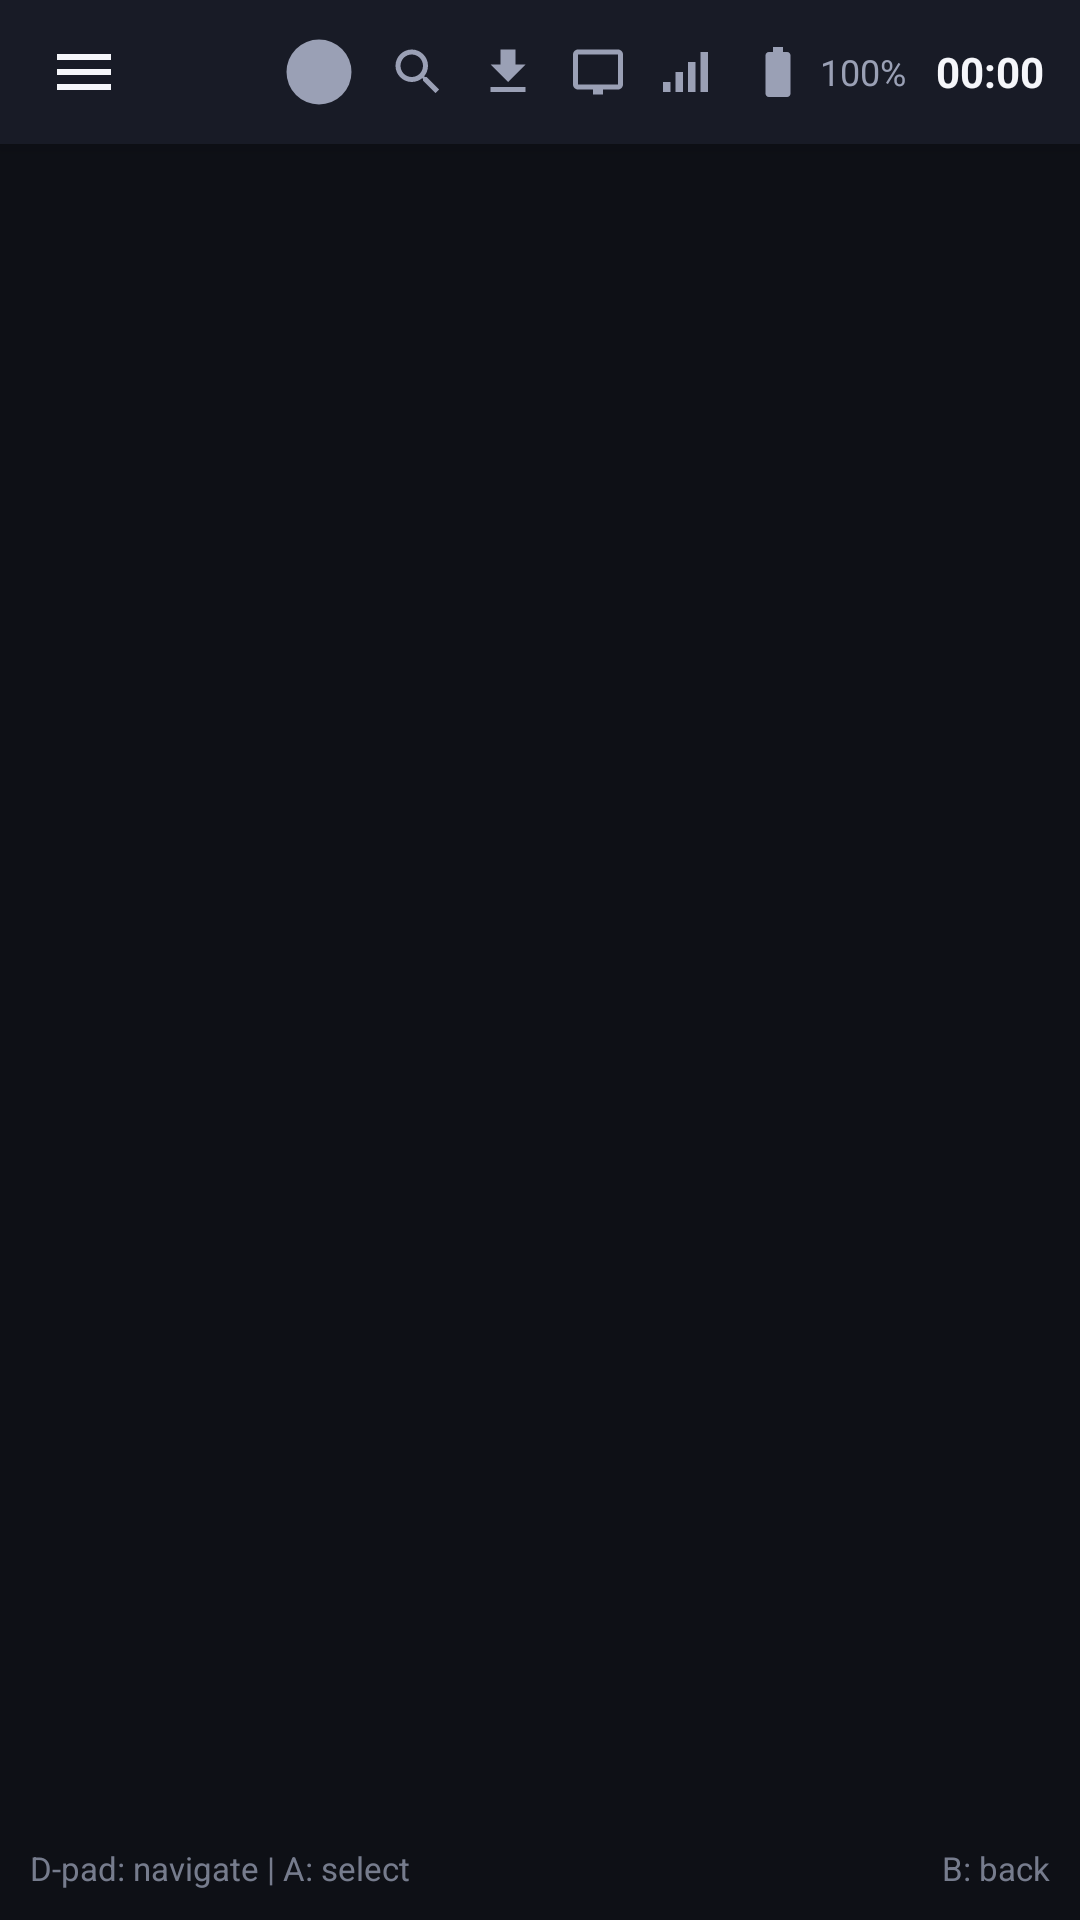

Icons on this 1080 x 1920 Android screen, each with its box as (x1, y1, x2, y2):
battery: (765, 47, 791, 97)
device: (573, 49, 623, 95)
download: (490, 49, 526, 92)
Navigation: (57, 54, 111, 90)
search: (395, 49, 439, 93)
signal: (663, 52, 708, 92)
